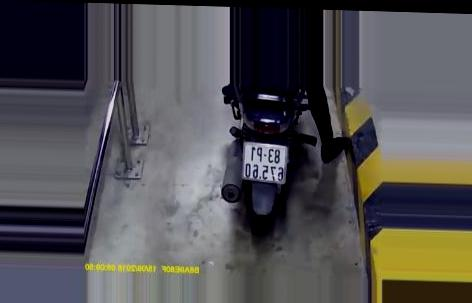License_Plate: (238, 139, 295, 186)
